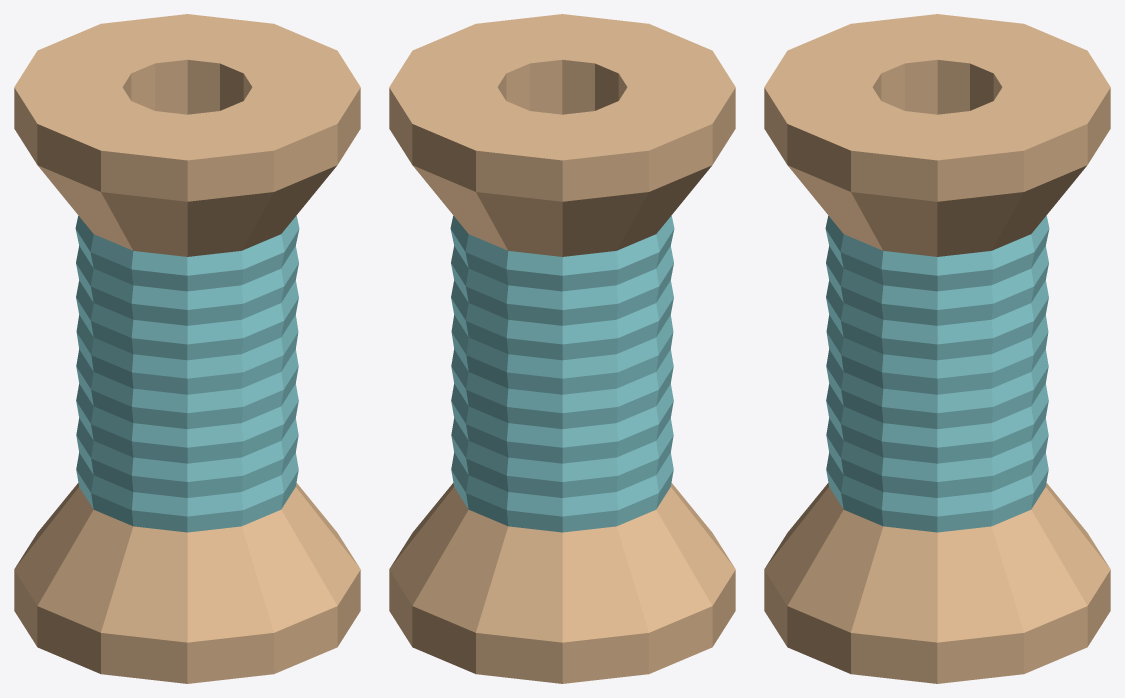
File: FBX_Environment_Spool.fbx
The picture shows the model from 3 angles, left to right: view 1: azimuth 30°, elevation 25°; view 2: azimuth 150°, elevation 25°; view 3: azimuth 270°, elevation 25°; orthographic projection.
Visible parts, largest first — view 1: Spool; view 2: Spool; view 3: Spool.
Part boxes in pixels (<box>): Spool: <box>14,14,360,683</box>; Spool: <box>389,14,735,683</box>; Spool: <box>764,14,1110,683</box>.
Size of the model in its own units: 0.03 by 0.05 by 0.03.
